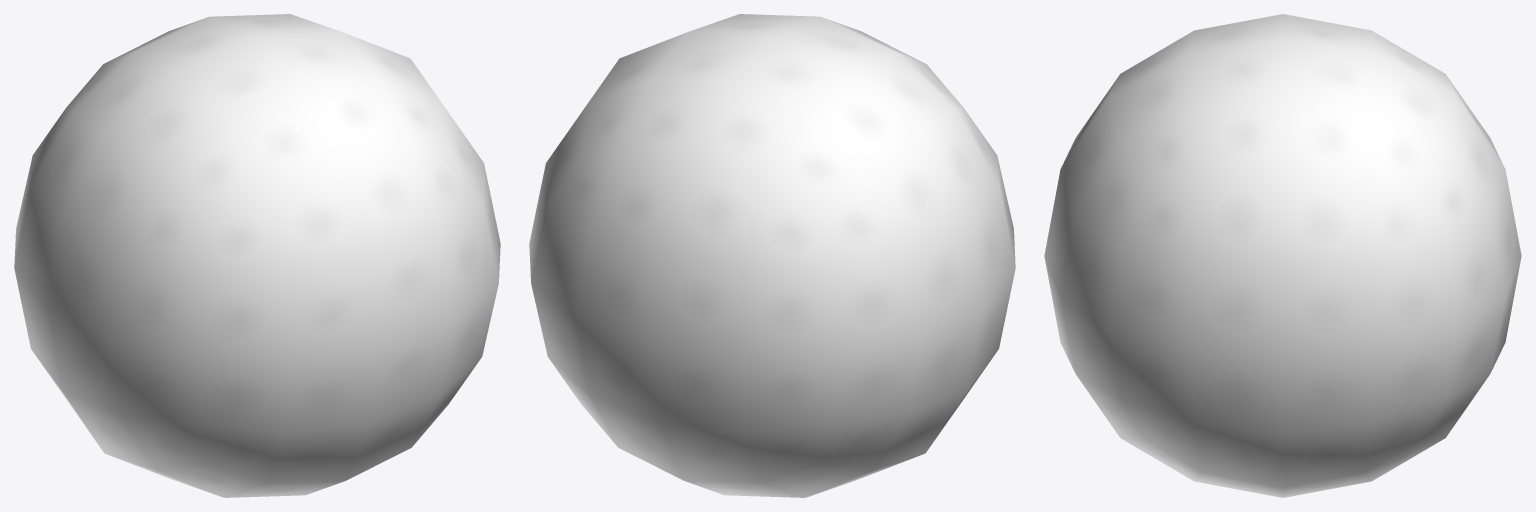
The model's file is Golf_Character_Ball_004.fbx.
3 renders of one model, left to right at view 1: azimuth 30°, elevation 25°; view 2: azimuth 150°, elevation 25°; view 3: azimuth 270°, elevation 25°, orthographic.
Parts seen in each view (by area): view 1: Golf_Character_Ball1; view 2: Golf_Character_Ball1; view 3: Golf_Character_Ball1.
Part boxes in pixels (x1,y1,x2,y2): Golf_Character_Ball1: [14, 14, 500, 497]; Golf_Character_Ball1: [529, 14, 1015, 497]; Golf_Character_Ball1: [1044, 14, 1521, 497].
Size of the model in its own units: 102 by 102 by 102.
